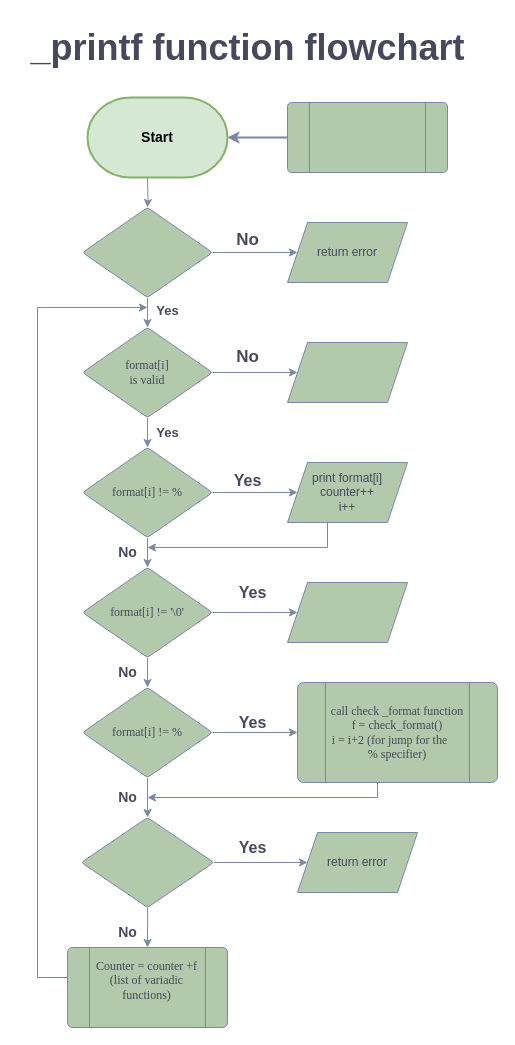
The diagram is 515 pixels wide and 1045 high, and some of its shapes have lost their labels. Here are the shapes that lost their labels. From the top down, the centre of each, then its label:
At (367,137): "Variadic functions with the specifiers for comparsion".
At (147,252): "format is valid".
At (347,372): "end list return counter".
At (347,612): "return counter".
At (147,862): "f = null".
